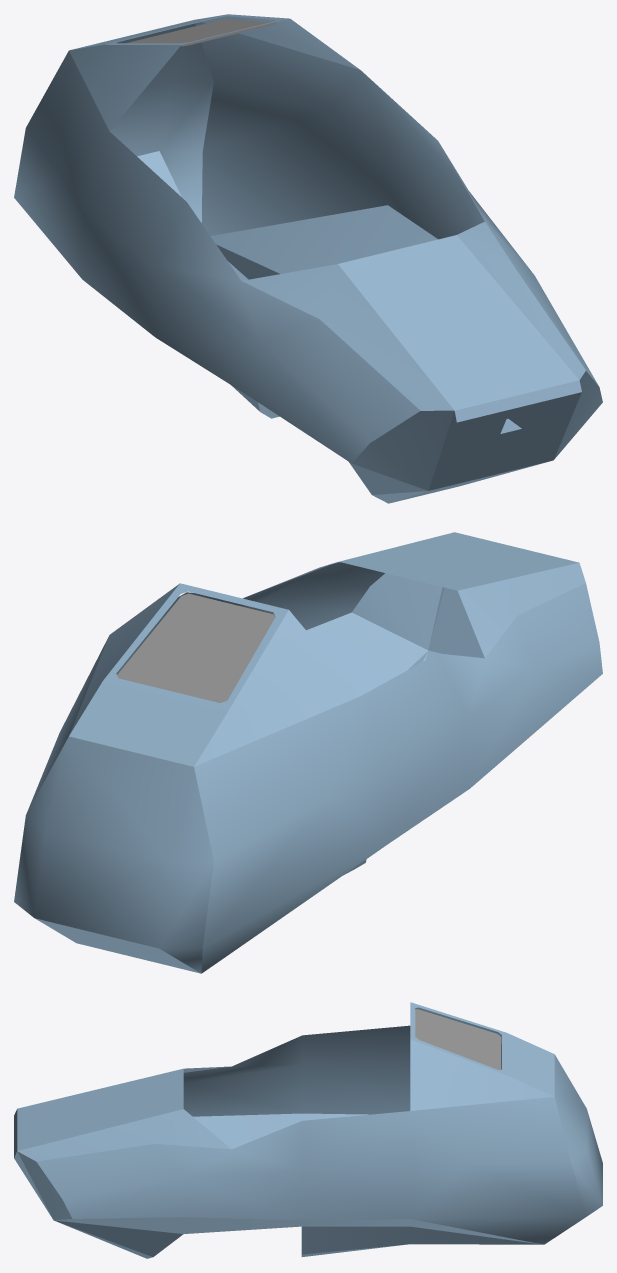
File: cabin chassis.FBX
3 views of the same model, one above another, from view 1: azimuth 30°, elevation 25°; view 2: azimuth 150°, elevation 25°; view 3: azimuth 270°, elevation 25° (orthographic). The views are drawn at different scales.
Visible parts, largest first — view 1: Box17; view 2: Box17; view 3: Box17.
Part boxes in pixels (x1=…): Box17: x1=14, y1=14, x2=602, y2=503; Box17: x1=14, y1=532, x2=602, y2=973; Box17: x1=14, y1=1002, x2=602, y2=1258.
Size of the model in its own units: 0.071 by 0.1651 by 0.0701.
